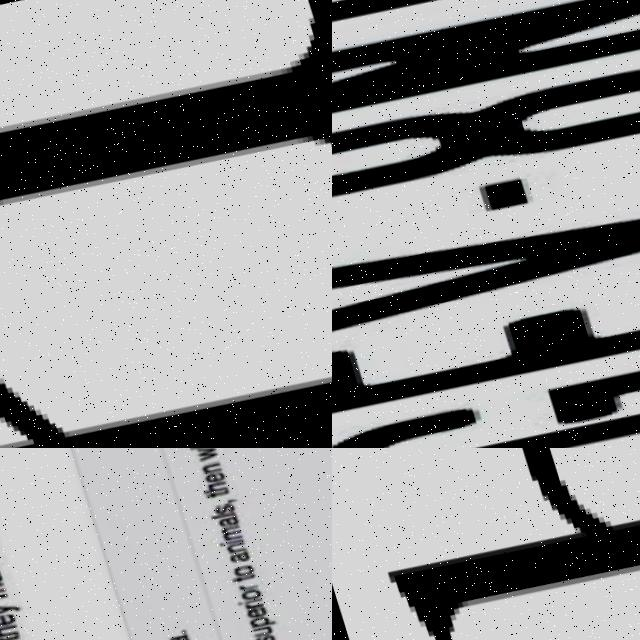8: (332, 0, 640, 254)
B: (382, 448, 640, 640)
E: (332, 210, 640, 448)
G: (332, 283, 640, 448)
H: (332, 0, 640, 87)
N: (0, 0, 332, 448), (332, 0, 640, 169)
V: (332, 118, 640, 384)
